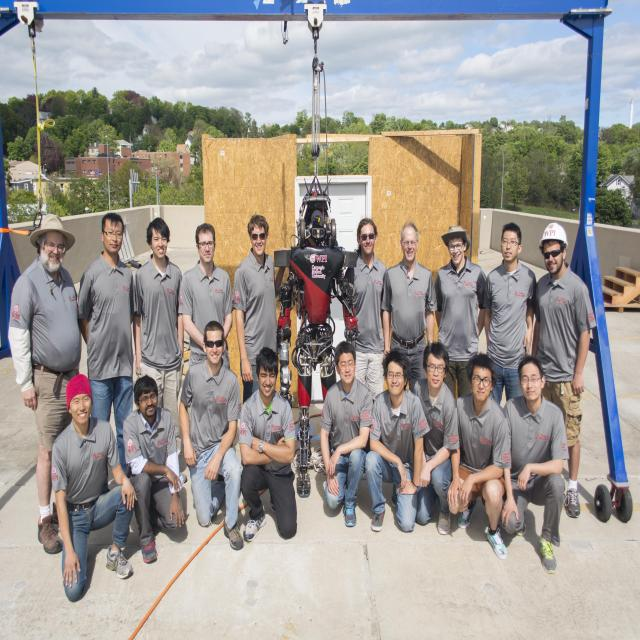body: (270, 174, 361, 502), (8, 209, 84, 557), (50, 373, 138, 604), (531, 219, 595, 522), (77, 212, 138, 481), (132, 215, 189, 489), (498, 350, 566, 578), (177, 321, 244, 551), (446, 352, 512, 560), (364, 346, 431, 536), (122, 373, 186, 565), (238, 343, 299, 541), (319, 338, 375, 530), (379, 220, 439, 393), (482, 222, 536, 406), (408, 340, 458, 537), (231, 214, 280, 407), (435, 224, 487, 397), (343, 218, 389, 403), (178, 222, 234, 370)
